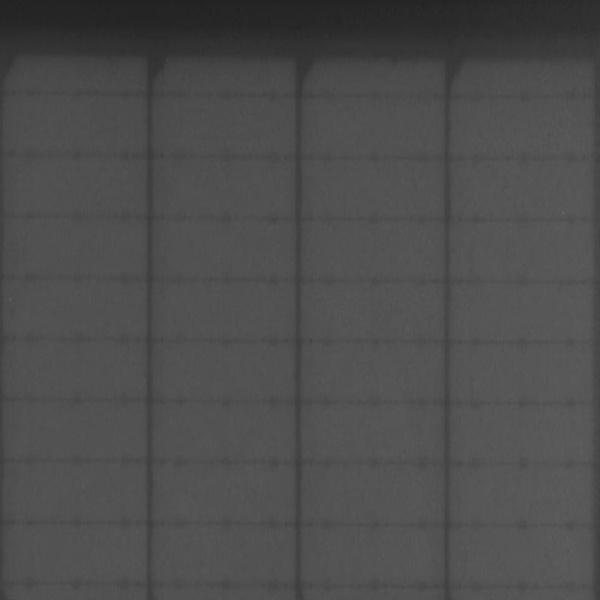no_electricity: (1, 1, 598, 64)
